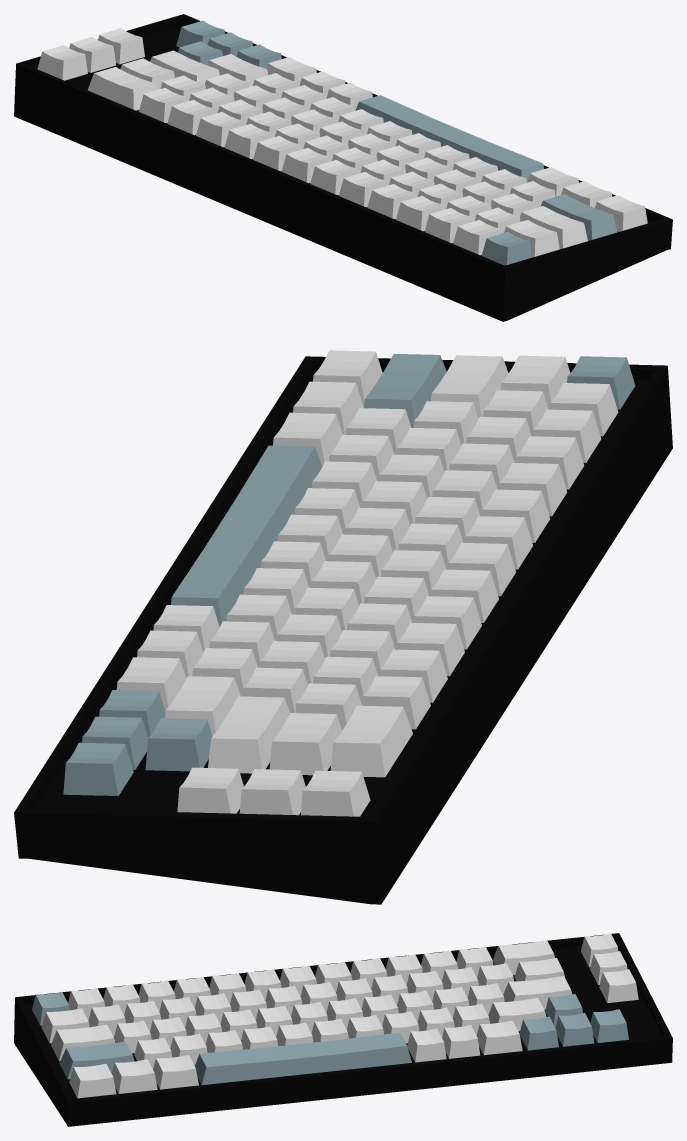
The model's file is Keyboard.glb.
3 renders of one model, top to bottom at view 1: azimuth 30°, elevation 25°; view 2: azimuth 150°, elevation 25°; view 3: azimuth 270°, elevation 25°, orthographic. The views are drawn at different scales.
Visible parts, largest first — view 1: keyboard; view 2: keyboard; view 3: keyboard.
Part boxes in pixels (x1=…): keyboard: x1=14, y1=14, x2=672, y2=321; keyboard: x1=14, y1=350, x2=672, y2=904; keyboard: x1=14, y1=933, x2=672, y2=1126.
Size of the model in its own units: 0.404 by 0.0717 by 0.7263.
